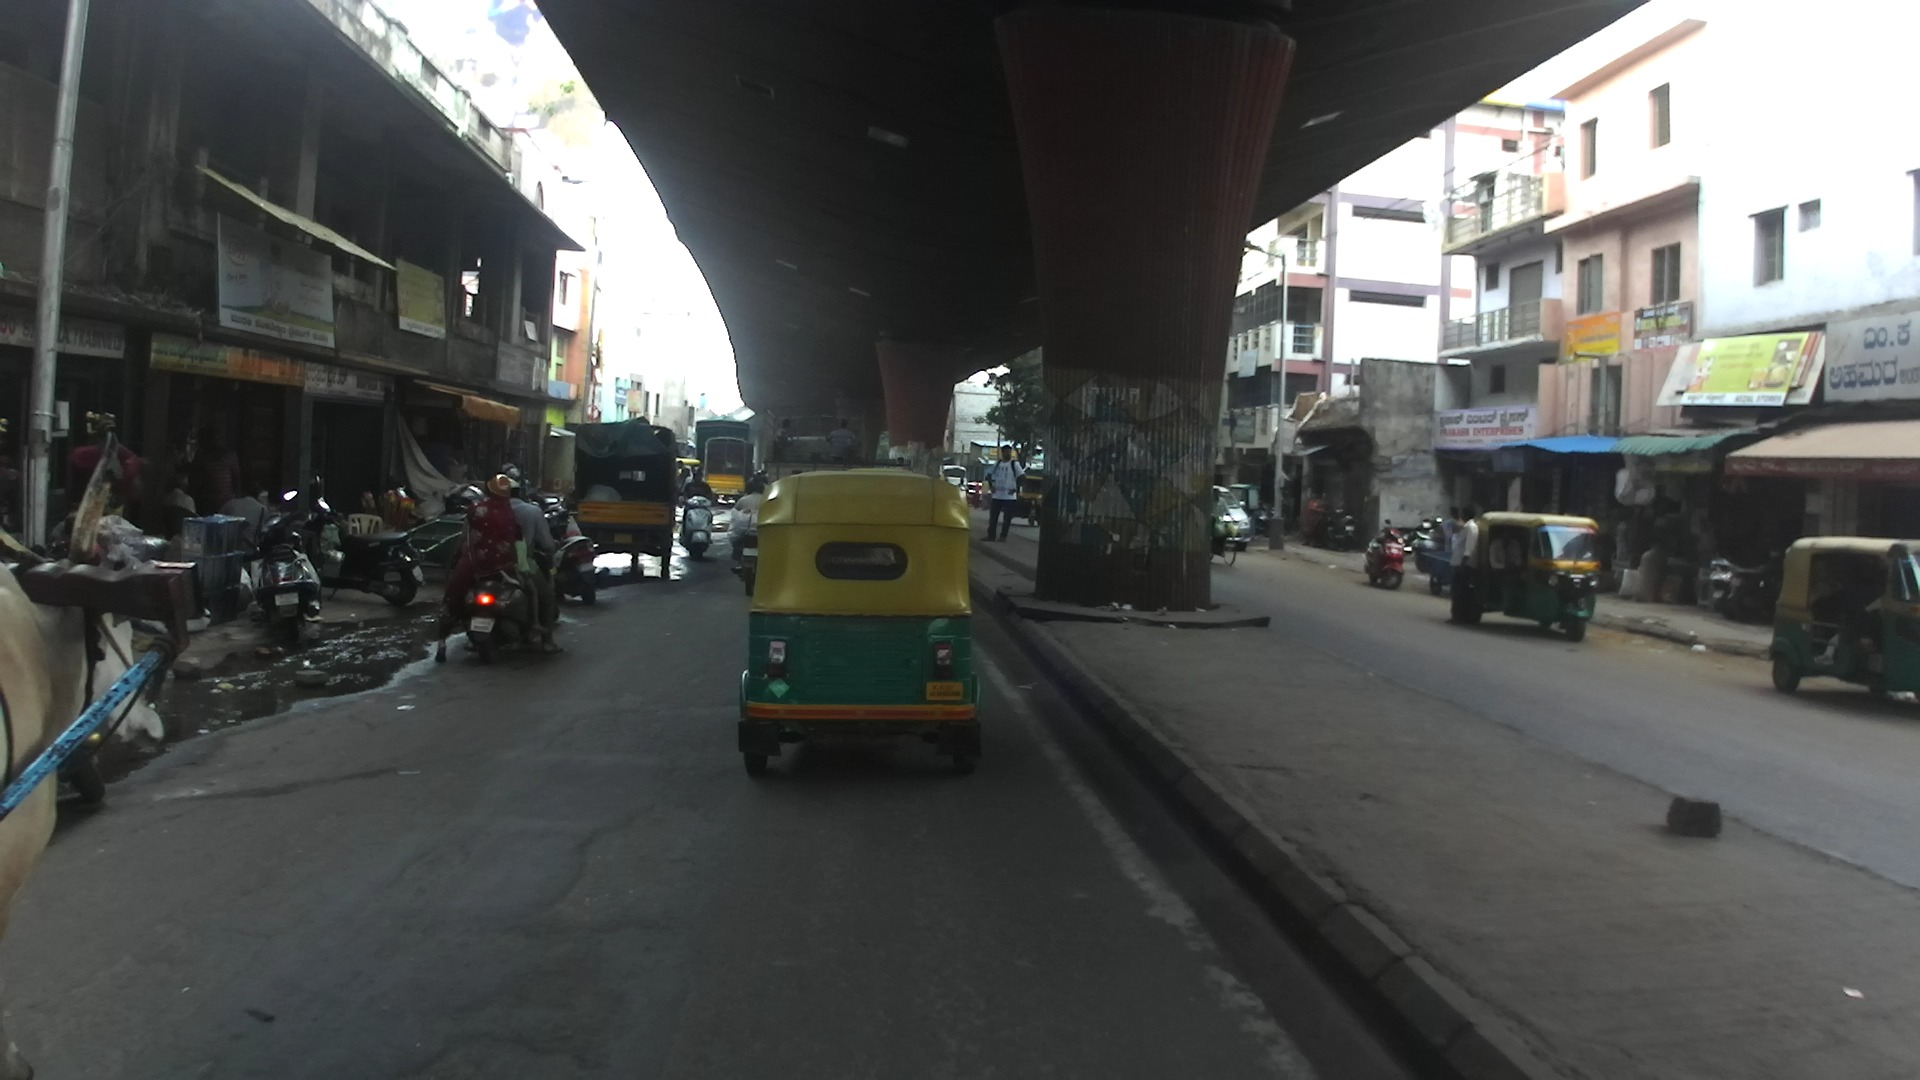animal: (1, 441, 167, 1080)
autorickshaw: (735, 469, 984, 779), (1768, 536, 1917, 702), (1477, 512, 1601, 643), (1015, 471, 1044, 526), (677, 458, 702, 504)
bicycle: (1212, 514, 1238, 567)
car: (1212, 485, 1254, 554), (968, 481, 983, 507)
motorcycle: (304, 481, 424, 606), (457, 539, 567, 663), (241, 490, 322, 639), (536, 506, 599, 606), (1709, 554, 1787, 625), (1363, 517, 1406, 589), (513, 490, 571, 537), (1409, 515, 1451, 575), (676, 495, 713, 561), (732, 530, 763, 595), (1324, 504, 1356, 553), (1249, 498, 1276, 535)
person: (1445, 507, 1480, 629), (200, 424, 244, 517), (985, 444, 1021, 542), (224, 482, 264, 555), (167, 471, 195, 522), (1301, 488, 1321, 547), (1444, 504, 1463, 557), (1314, 493, 1328, 550), (253, 488, 280, 514), (978, 475, 992, 512)
rider: (434, 474, 524, 664), (505, 474, 564, 659), (729, 476, 770, 564), (511, 525, 542, 638), (825, 420, 857, 465), (680, 464, 712, 509), (1210, 486, 1229, 555), (772, 417, 792, 457), (674, 458, 687, 488), (755, 466, 772, 490), (680, 468, 690, 497)
truck: (571, 415, 674, 567), (768, 411, 868, 487), (692, 417, 752, 469), (705, 436, 748, 505)
vehicle fallback: (1423, 547, 1455, 596), (942, 462, 966, 500), (675, 437, 696, 460)
